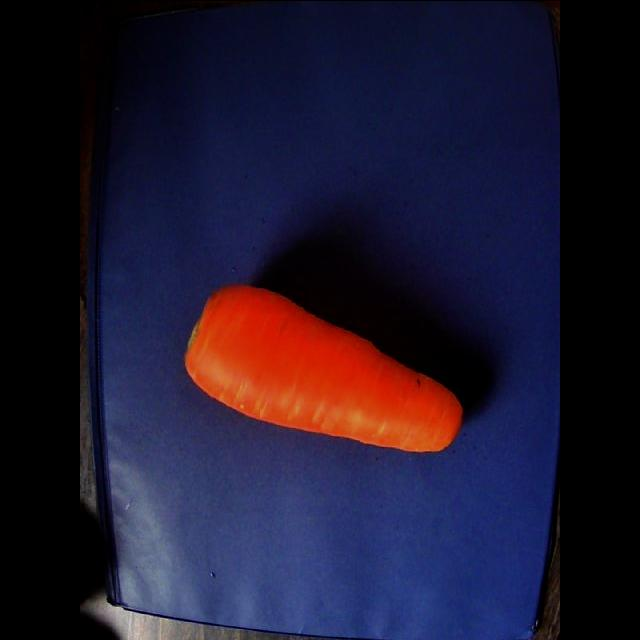zanahoria: (185, 284, 462, 451)
